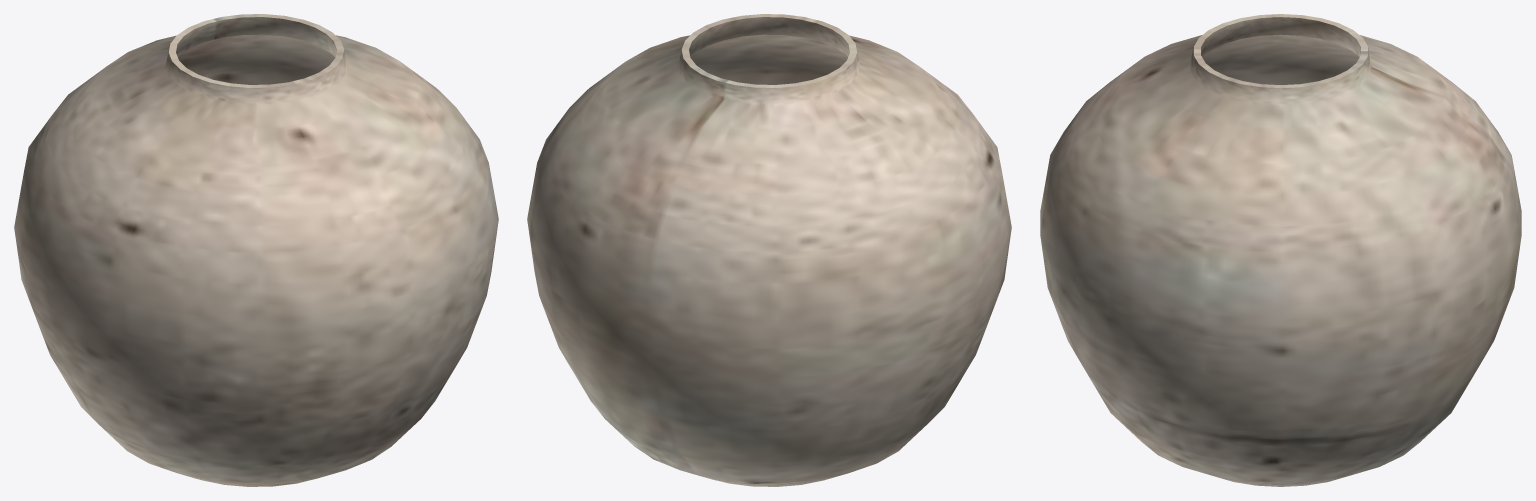
Rendered from 汉代陶瓷罐4.FBX.
The picture shows the model from 3 angles, left to right: view 1: azimuth 30°, elevation 25°; view 2: azimuth 150°, elevation 25°; view 3: azimuth 270°, elevation 25°; orthographic projection.
Parts seen in each view (by area): view 1: Cylinder001; view 2: Cylinder001; view 3: Cylinder001.
Boxes of the visible parts, x1,y1,x2,y2 form: Cylinder001: (14, 14, 498, 486); Cylinder001: (527, 14, 1011, 486); Cylinder001: (1040, 14, 1521, 486).
Size of the model in its own units: 144 by 129 by 143.
Materials: 1 (1 with a texture image).
